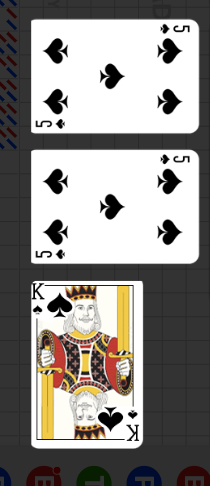5S: (157, 23, 191, 35), (34, 248, 67, 260)
KS: (125, 407, 141, 443)
